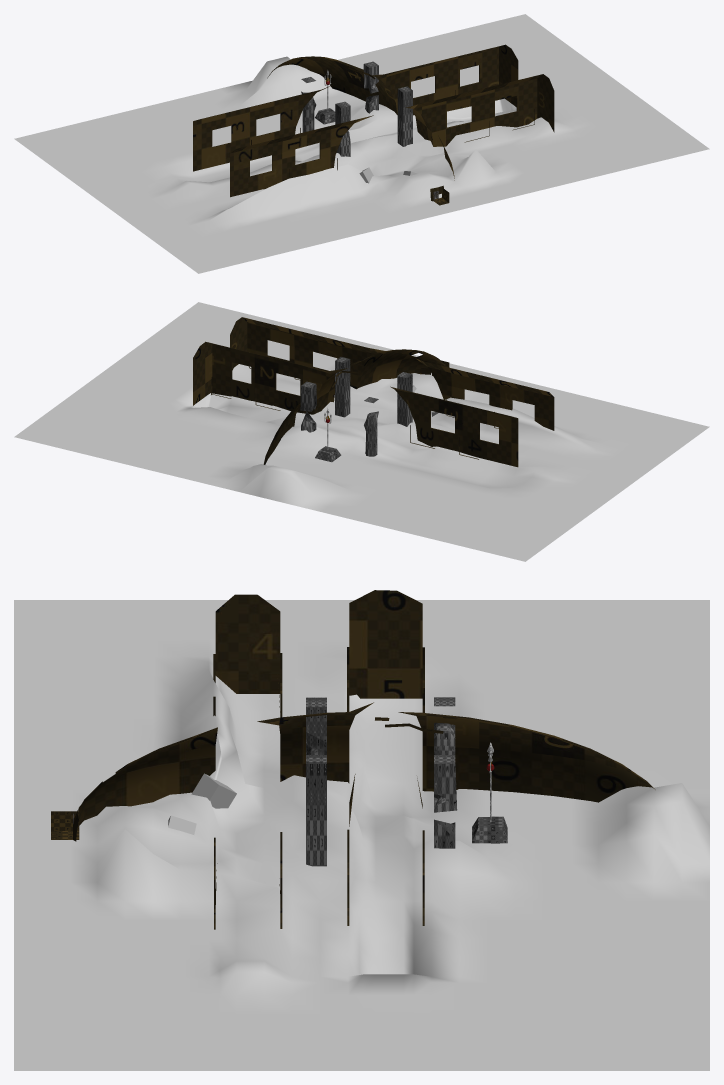
Rendered from temple_with_trident01.fbx.
The picture shows the model from 3 angles, top to bottom: view 1: azimuth 30°, elevation 25°; view 2: azimuth 150°, elevation 25°; view 3: azimuth 270°, elevation 25°; orthographic projection. The views are drawn at different scales.
Visible parts, largest first — view 1: OceanFloor, Dome, Pillar_1, Pillar_2, Pillar_4, Pillar_3; view 2: OceanFloor, Dome, Pillar_1, Pillar_2, Pillar_4, Pillar_3; view 3: OceanFloor, Dome, Pillar_1, Pillar_2, Pillar_4, Mipha_Trident_01:pedestal, Stone, Pillar_3, Entryway.
Boxes of the visible parts, x1=… form: OceanFloor: x1=14, y1=14, x2=709, y2=273; Dome: x1=193, y1=44, x2=554, y2=201; Pillar_1: x1=397, y1=86, x2=412, y2=146; Pillar_2: x1=363, y1=61, x2=378, y2=113; Pillar_4: x1=335, y1=101, x2=350, y2=156; Pillar_3: x1=301, y1=77, x2=316, y2=132; OceanFloor: x1=14, y1=302, x2=709, y2=561; Dome: x1=193, y1=317, x2=554, y2=467; Pillar_1: x1=335, y1=357, x2=350, y2=417; Pillar_2: x1=300, y1=381, x2=316, y2=432; Pillar_4: x1=397, y1=372, x2=412, y2=426; Pillar_3: x1=364, y1=397, x2=378, y2=456; OceanFloor: x1=14, y1=600, x2=709, y2=1070; Dome: x1=73, y1=590, x2=655, y2=929; Pillar_1: x1=306, y1=755, x2=326, y2=866; Pillar_2: x1=434, y1=755, x2=457, y2=848; Pillar_4: x1=306, y1=697, x2=326, y2=754; Mipha_Trident_01:pedestal: x1=472, y1=816, x2=507, y2=843; Stone: x1=191, y1=773, x2=236, y2=808; Pillar_3: x1=434, y1=697, x2=455, y2=754; Entryway: x1=51, y1=811, x2=79, y2=839.
Size of the model in its own units: 118 by 17.9 by 73.61.
